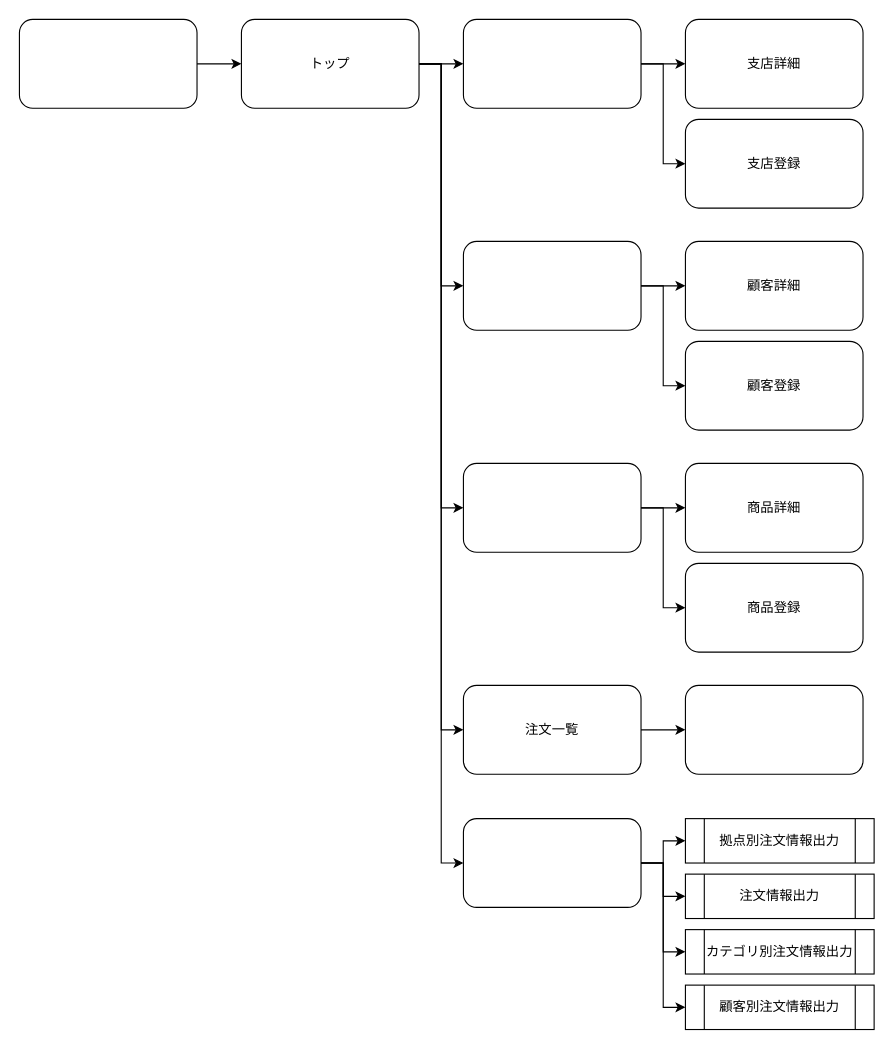
Some shapes in this 894 by 1049 pixel diagram are drawn without their labels. The shapes that lost their labels are listed below. From the top down, each one's centre as x and y in pixels, then its label:
At (107,63): "ログイン".
At (551,63): "支店一覧".
At (551,285): "顧客一覧".
At (551,507): "商品一覧".
At (773,729): "注文明細".
At (551,862): "帳票".
